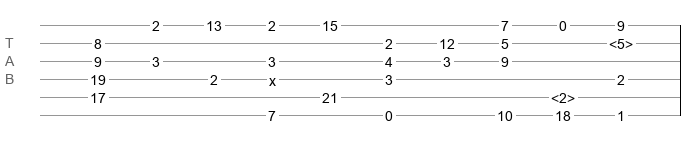0: (385, 108, 393, 118), (559, 18, 567, 28)
1: (617, 108, 625, 118)
10: (497, 108, 513, 118)
12: (439, 36, 455, 46)
13: (206, 18, 222, 28)
15: (322, 18, 338, 28)
17: (90, 90, 106, 100)
18: (555, 108, 571, 118)
19: (90, 72, 106, 82)
2: (152, 18, 160, 28), (210, 72, 218, 82), (268, 18, 276, 28), (385, 36, 393, 46), (617, 72, 625, 82)
21: (322, 90, 338, 100)
3: (152, 54, 160, 64), (268, 54, 276, 64), (385, 72, 393, 82), (443, 54, 451, 64)
4: (385, 54, 393, 64)
5: (501, 36, 509, 46)
7: (268, 108, 276, 118), (501, 18, 509, 28)
8: (94, 36, 102, 46)
9: (94, 54, 102, 64), (501, 54, 509, 64), (617, 18, 625, 28)
harmonic: (551, 90, 575, 100), (609, 36, 633, 46)
x: (269, 73, 276, 81)
